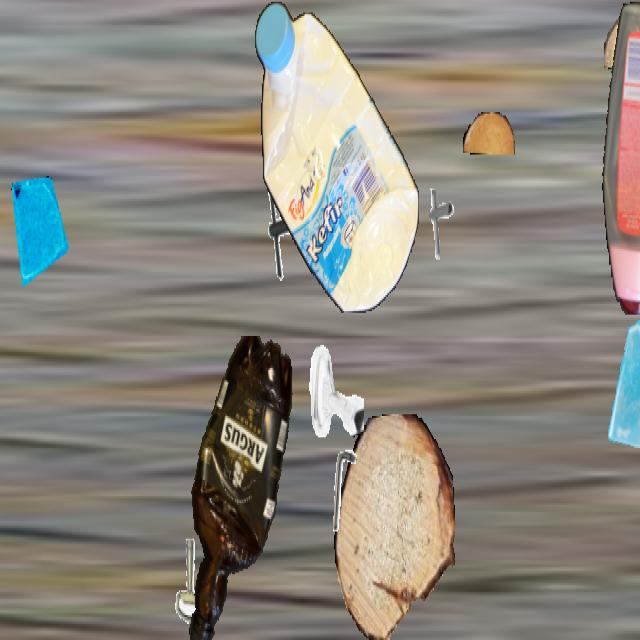glass: (8, 176, 72, 290), (597, 318, 640, 461)
metal: (257, 176, 317, 283), (306, 340, 364, 442), (165, 532, 221, 631), (319, 442, 373, 538), (417, 183, 461, 261)
plastic: (255, 2, 419, 311), (179, 336, 299, 638), (601, 2, 640, 314)
wood: (334, 414, 454, 638), (463, 112, 515, 155), (604, 16, 640, 73)
